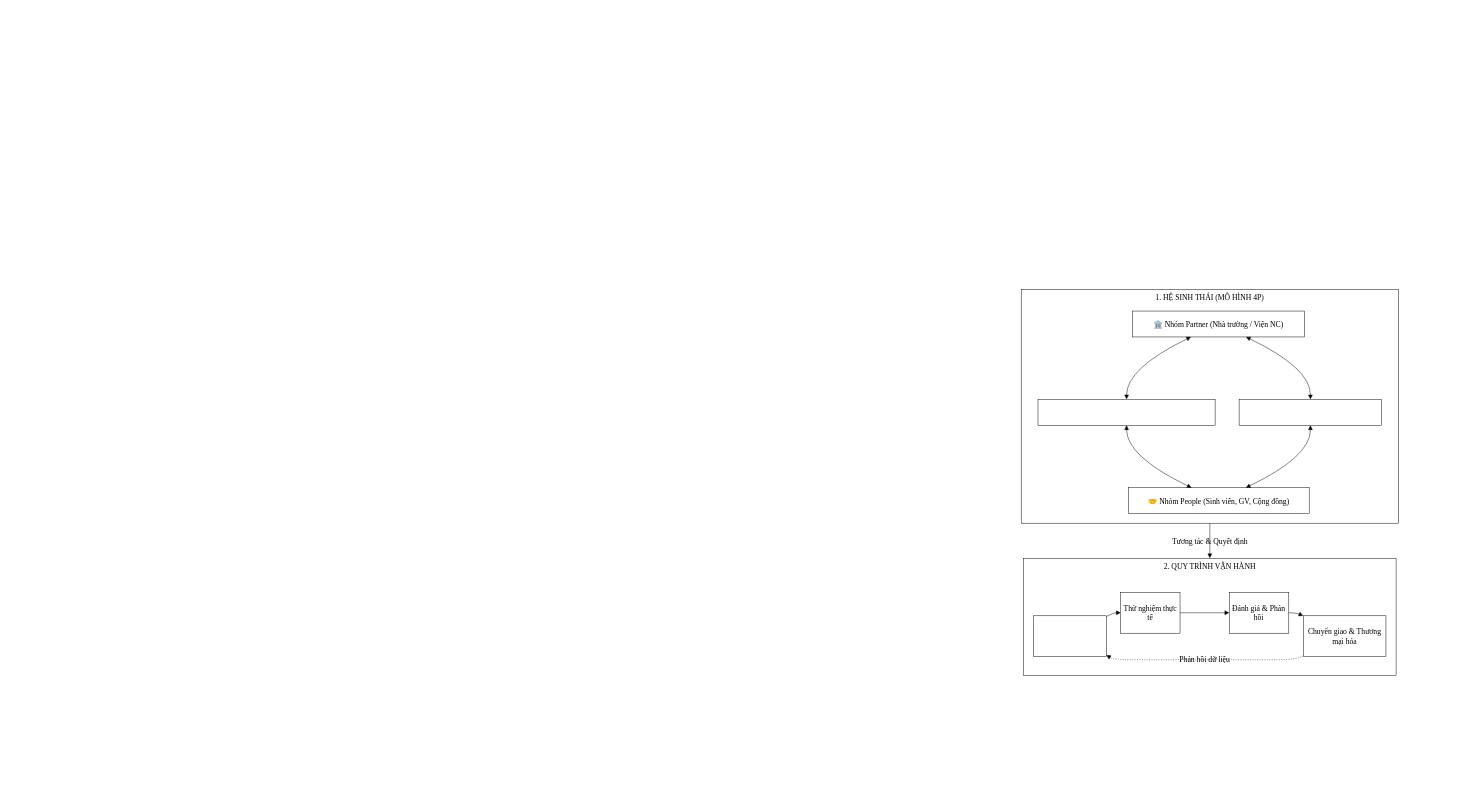
Some shapes in this 1458 by 808 pixel diagram are drawn without their labels. The shapes that lost their labels are listed below. From the top down, each one's centre as x and y in pixels, then its label:
(1126,412): ⚖️ Nhóm Public (Nhà nước / Chính quyền)
(1310,412): 🏢 Nhóm Private (Doanh nghiệp)
(1069,636): Khám phá & Đồng thiết kế
